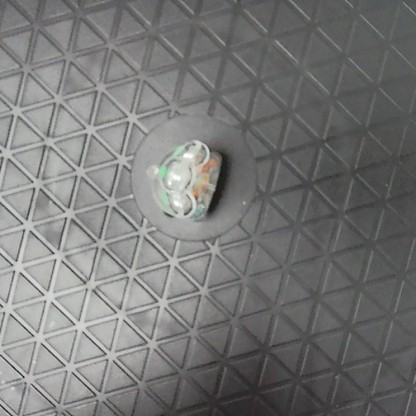whitefish: (155, 138, 225, 226)
